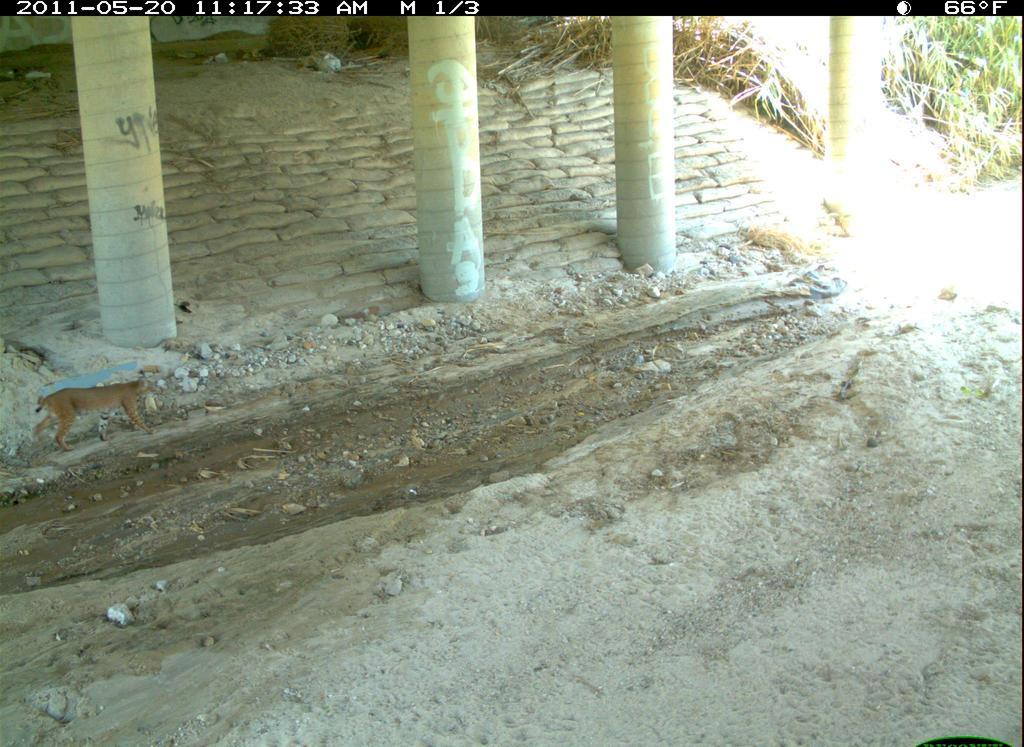bobcat: (62, 739, 322, 747)
